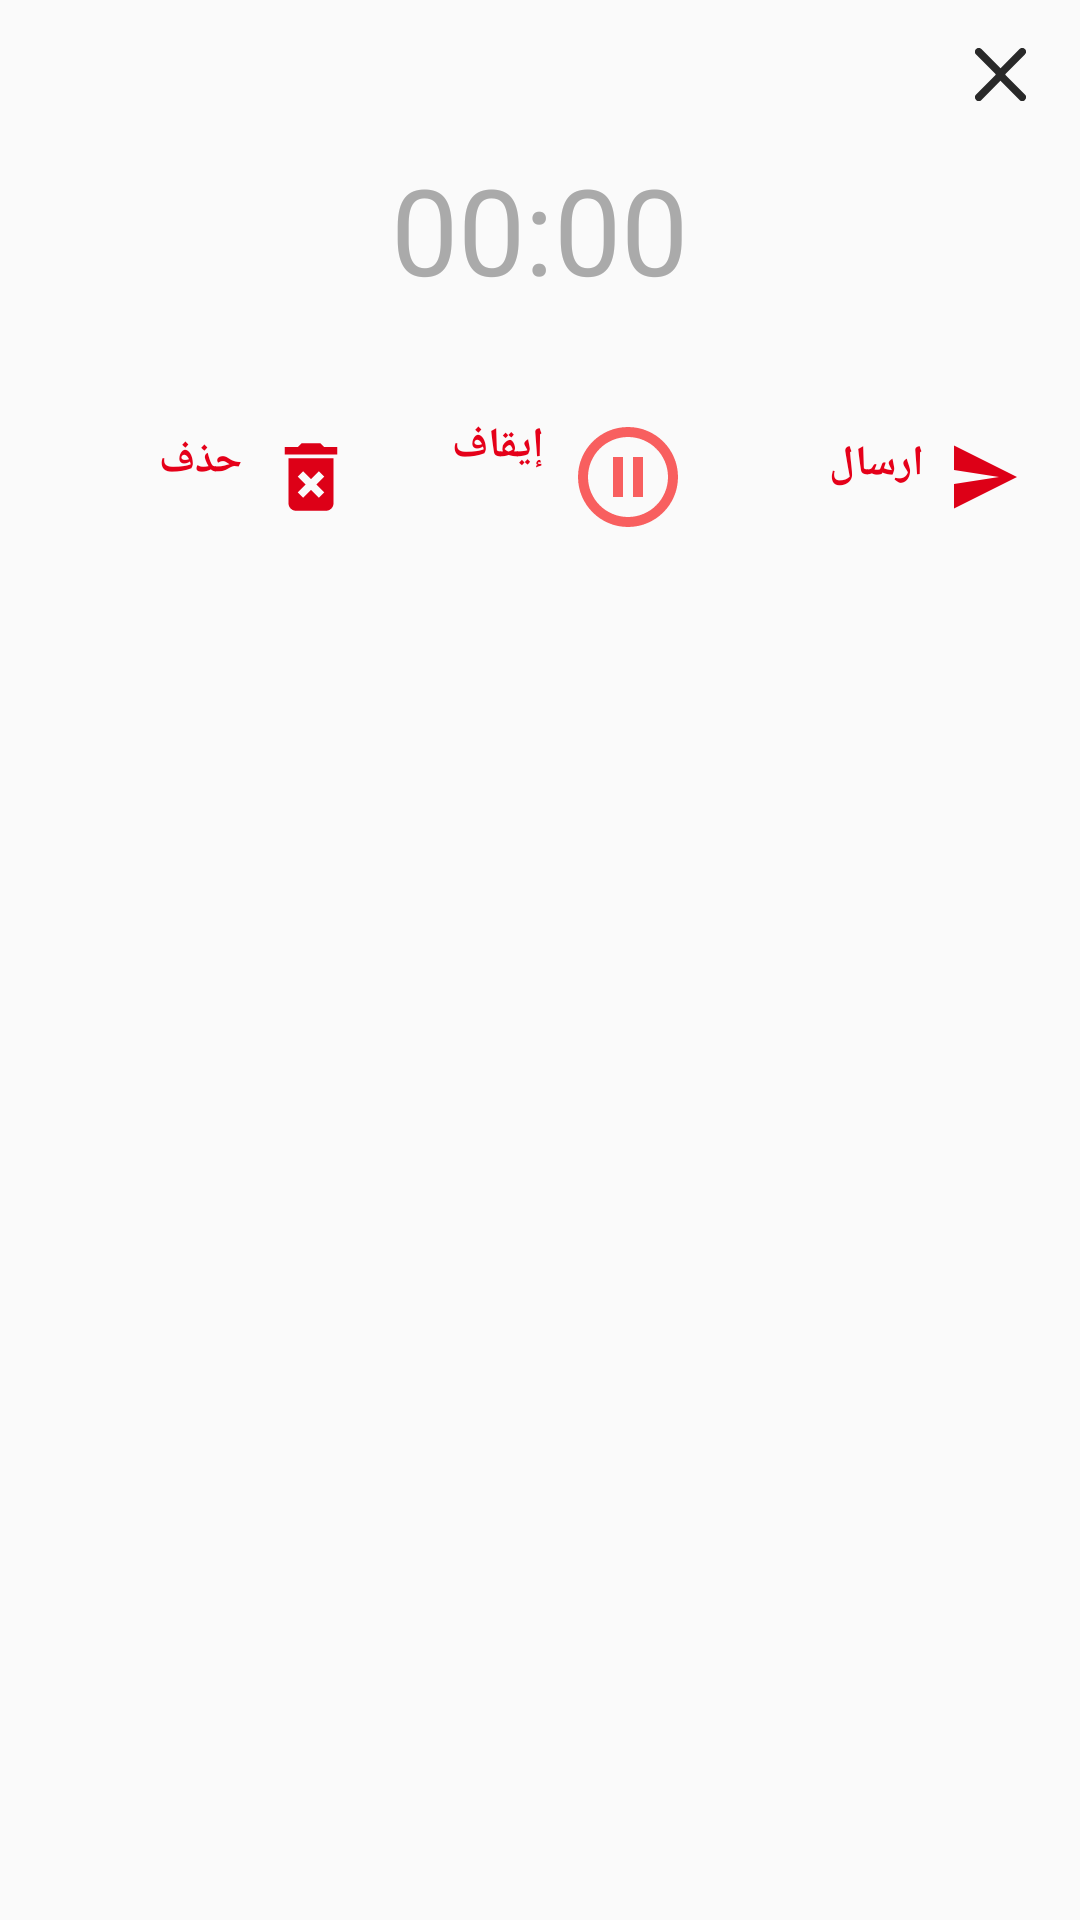

Icon bounding boxes for this 1080×1920 phone screenshot, format (x1, y1, x2, y2):
close: (975, 48, 1026, 101)
